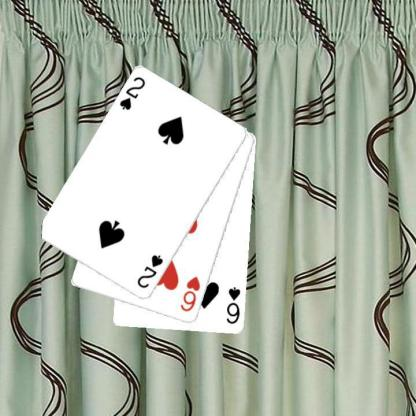2S: (134, 253, 164, 290), (116, 75, 146, 112)
6H: (178, 274, 202, 313)
6S: (224, 284, 242, 326)
